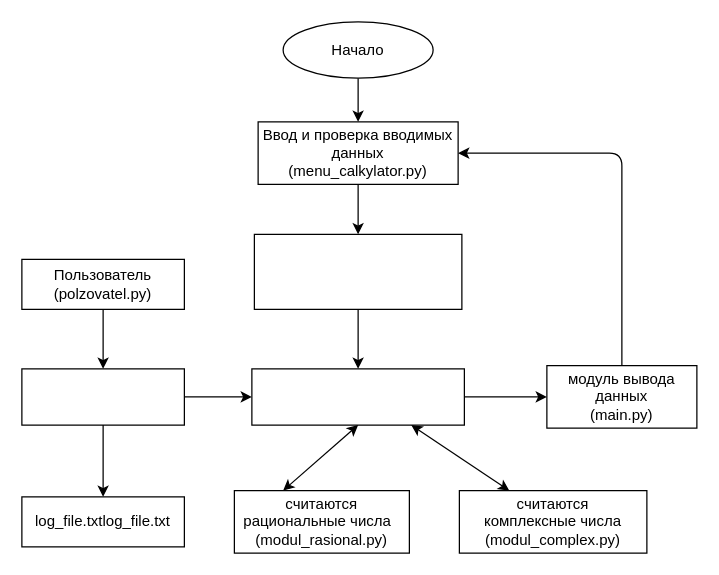
This 719x575 diagram has some shape labels left out. The shapes that lost their labels are listed below. From the top down, each one's centre as x and y in pixels, then its label:
At [357,271]: "модуль обеспечения взаимодейстсия с пользователем (view.py)".
At [102,396]: "логгер (logger.py)".
At [357,396]: "контроллер (controller.py)".
